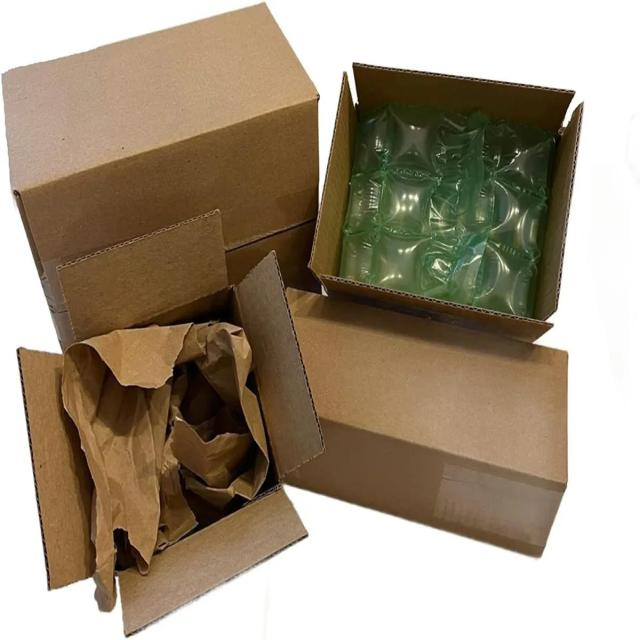cardboard: (15, 208, 328, 636), (0, 1, 322, 352), (252, 284, 571, 559), (305, 59, 586, 343)
